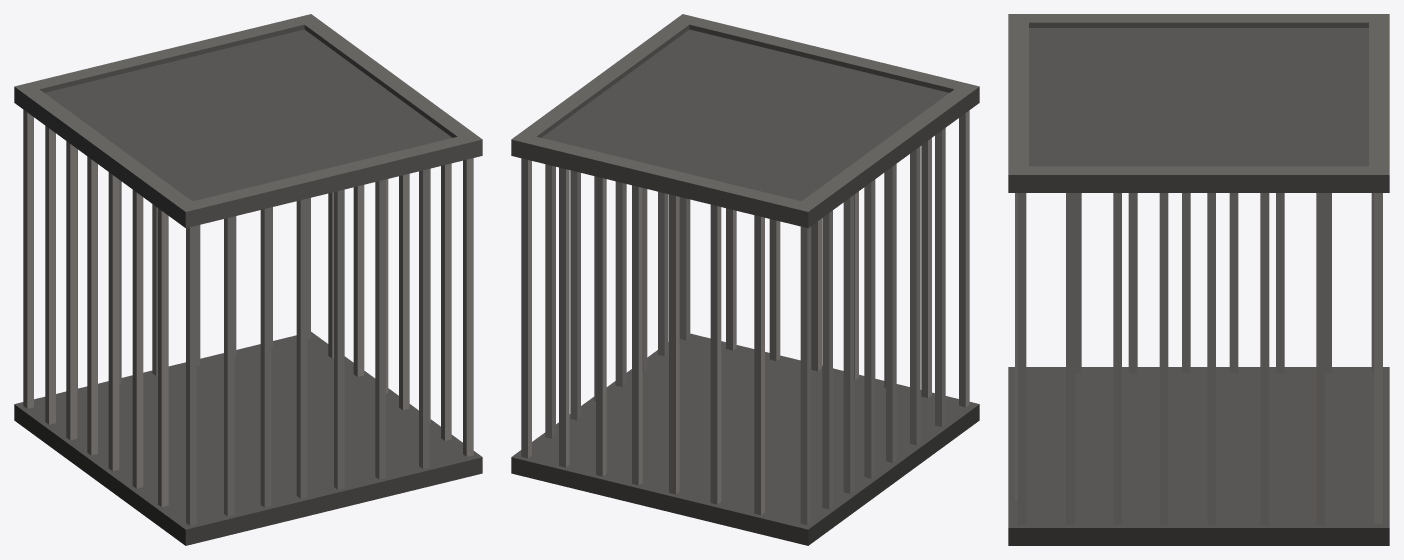
Rendered from SA_Prop_Cage_01.glb.
The picture shows the model from 3 angles, left to right: view 1: azimuth 30°, elevation 25°; view 2: azimuth 150°, elevation 25°; view 3: azimuth 270°, elevation 25°; orthographic projection. The views are drawn at different scales.
Parts seen in each view (by area): view 1: SA_Prop_Cage_01; view 2: SA_Prop_Cage_01; view 3: SA_Prop_Cage_01.
Part boxes in pixels (left/top/right/bottom): SA_Prop_Cage_01: left=14, top=14, right=482, bottom=545; SA_Prop_Cage_01: left=511, top=14, right=979, bottom=545; SA_Prop_Cage_01: left=1008, top=14, right=1389, bottom=545.
Bounding box in the file's own units: 1.46 × 1.57 × 1.46.
Materials: 1 (1 with a texture image).
